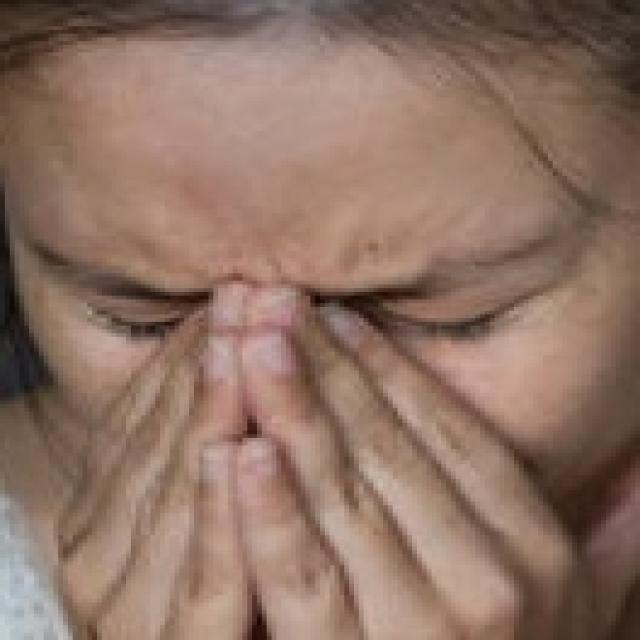Anxiety: (8, 23, 635, 636)
